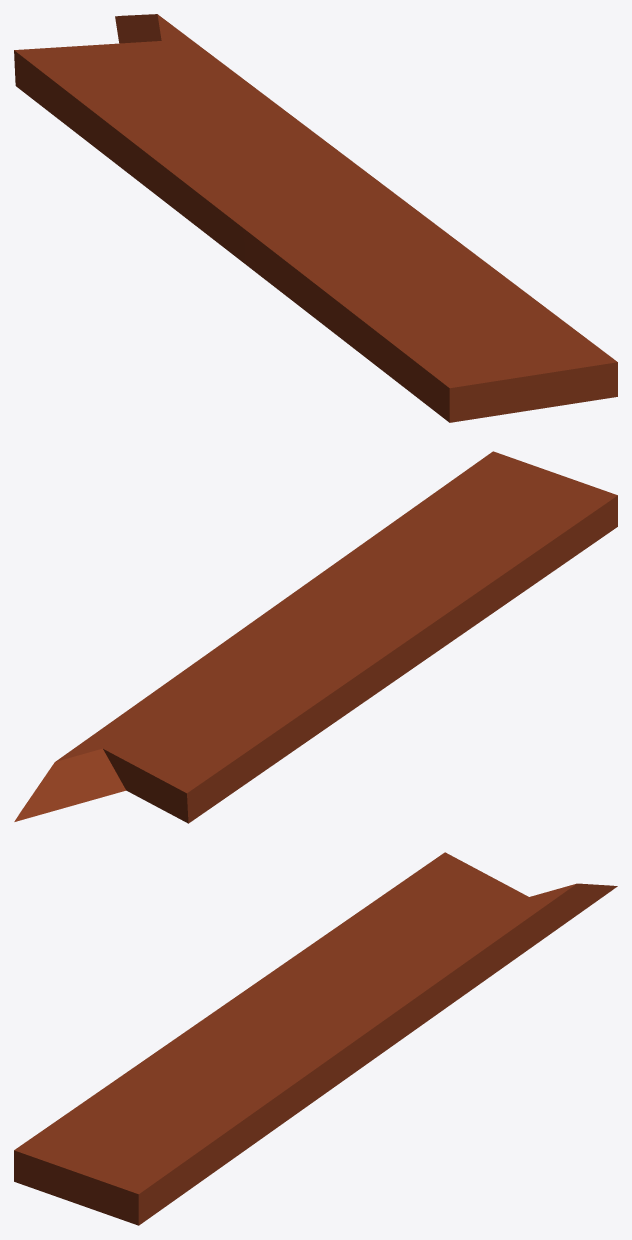
Rendered from BrokenBoard1.fbx.
3 renders of one model, top to bottom at view 1: azimuth 30°, elevation 25°; view 2: azimuth 150°, elevation 25°; view 3: azimuth 330°, elevation 25°, orthographic. The views are drawn at different scales.
Visible parts, largest first — view 1: BrokenBoard.001; view 2: BrokenBoard.001; view 3: BrokenBoard.001.
Boxes of the visible parts, x1,y1,x2,y2 form: BrokenBoard.001: (14,14,617,422); BrokenBoard.001: (14,451,617,823); BrokenBoard.001: (14,852,617,1225).
Bounding box in the file's own units: 193 × 38.61 × 1042.
